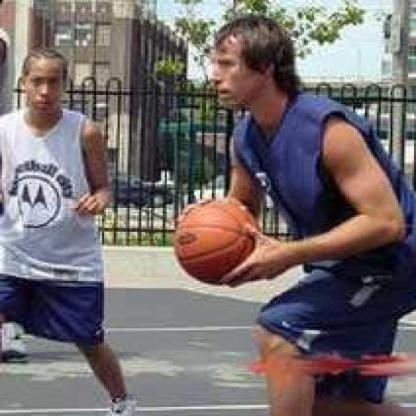basketball: (172, 201, 262, 289)
